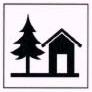Pousada de juventude: (4, 4, 87, 88)
